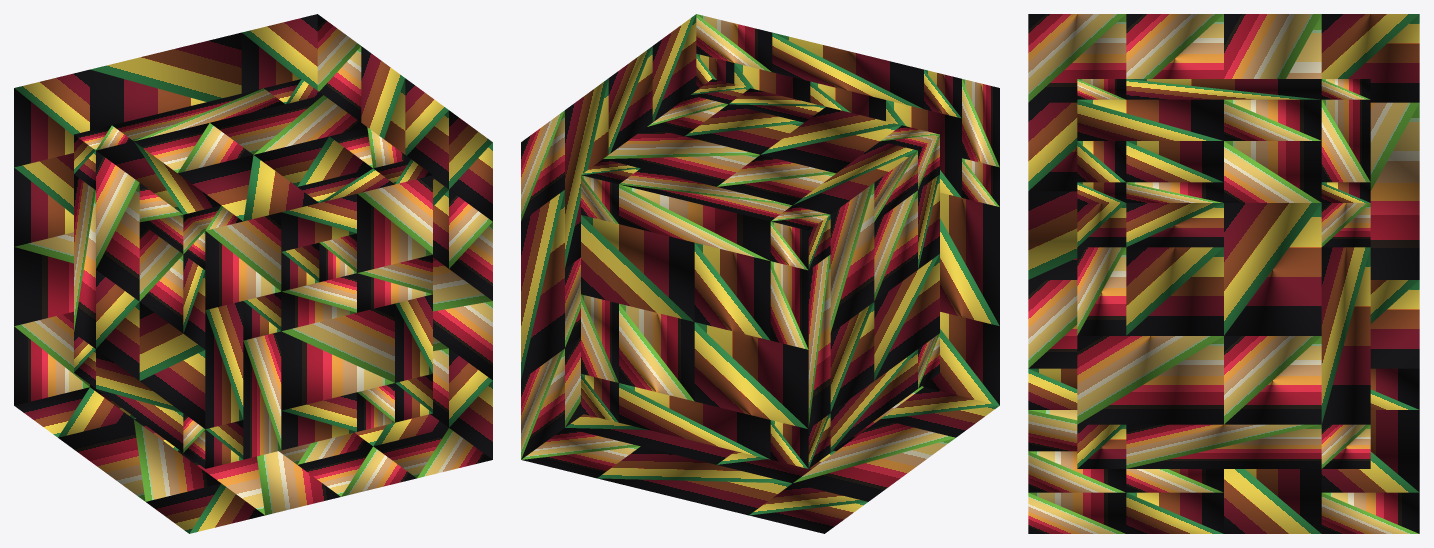
Rendered from creep.glb.
3 views of the same model, side by side, from view 1: azimuth 30°, elevation 25°; view 2: azimuth 150°, elevation 25°; view 3: azimuth 270°, elevation 25° (orthographic). The views are drawn at different scales.
Parts seen in each view (by area): view 1: creep; view 2: creep; view 3: creep.
Boxes of the visible parts, x1,y1,x2,y2 form: creep: [14, 14, 492, 533]; creep: [521, 14, 999, 533]; creep: [1028, 14, 1419, 533].
Size of the model in its own units: 0.95 by 0.95 by 0.95.
1 material, 1 textured.
